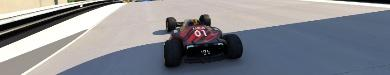Car: (162, 14, 243, 66)
Solid White and black: (0, 0, 125, 74)
